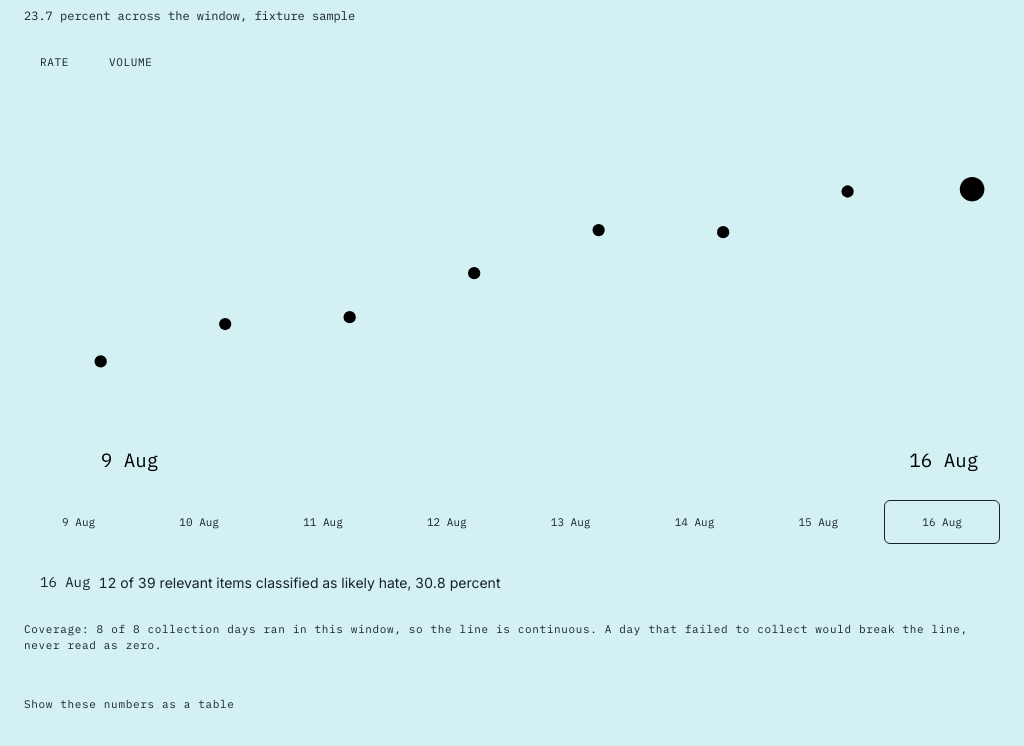
Test case: DashboardPreview › offers the same figures as a table
(page scrolled)
Click the heading "Show these numbers as a table": (129, 704) [24,697,234,711]
(page scrolled)
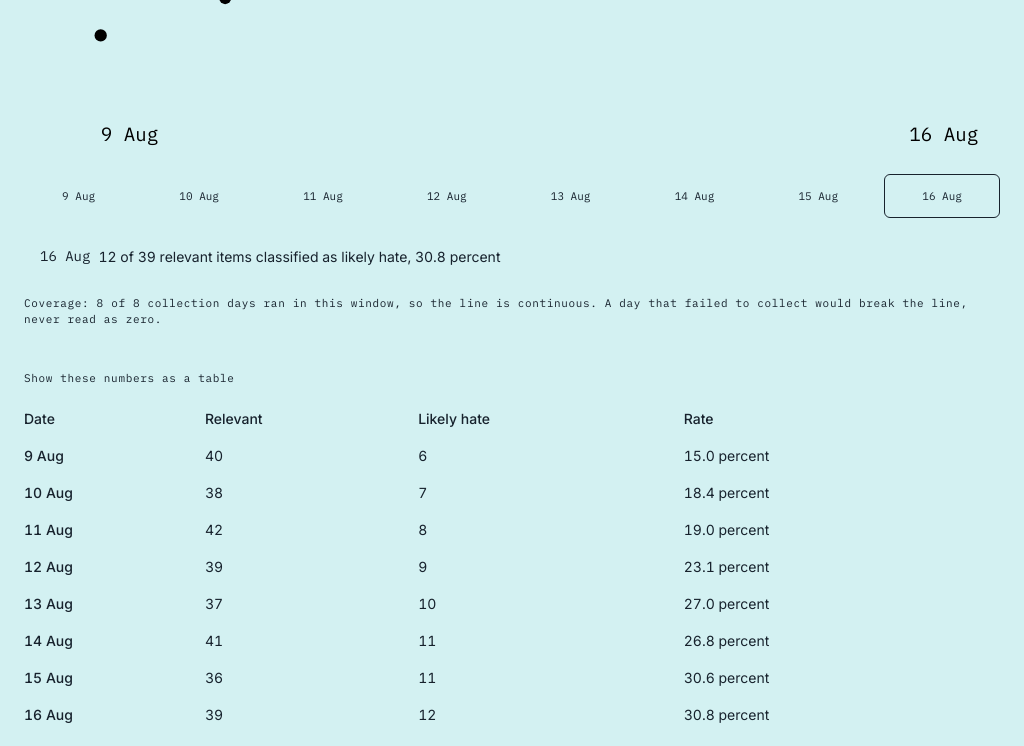
Check: the column heading "11 Aug" is shown, box [24,511,205,548]
Check: the column heading "Relevant" is shown, box [205,400,418,437]
